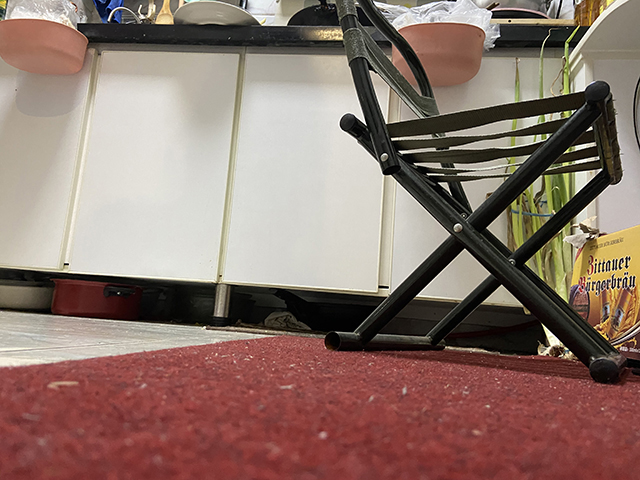cabinet: (1, 22, 398, 324)
carpet: (1, 334, 640, 480)
stool: (323, 1, 629, 385)
